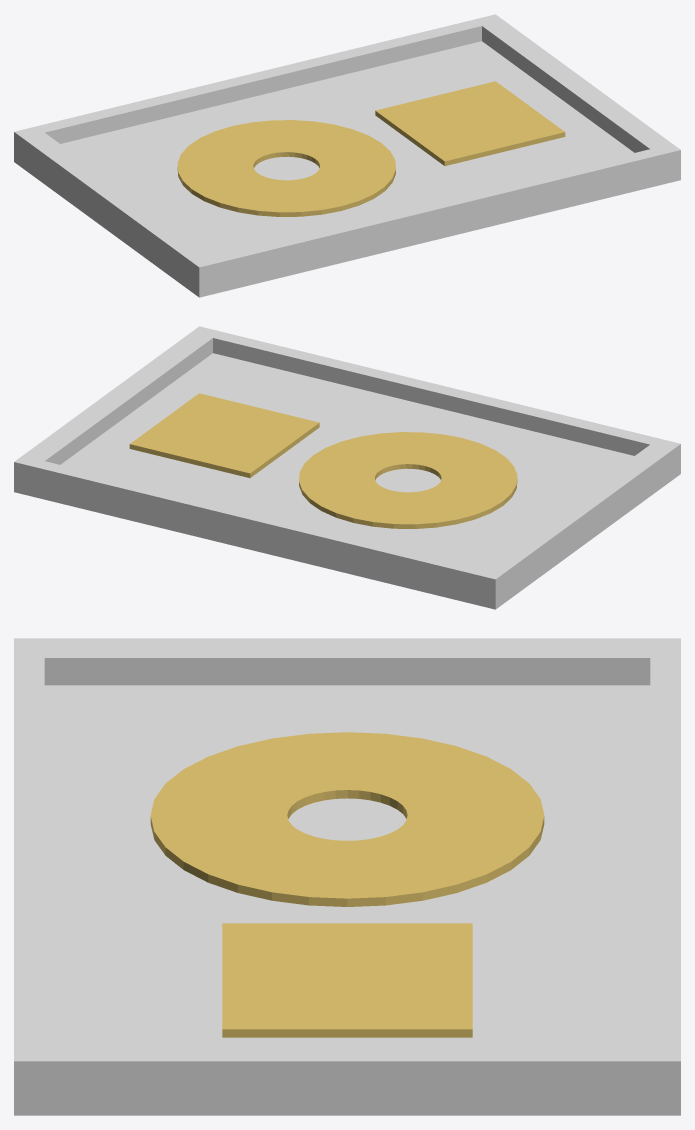
File: GoldRecord.fbx
The picture shows the model from 3 angles, top to bottom: view 1: azimuth 30°, elevation 25°; view 2: azimuth 150°, elevation 25°; view 3: azimuth 270°, elevation 25°; orthographic projection. The views are drawn at different scales.
Visible parts, largest first — view 1: Frame, Record, Plaque; view 2: Frame, Record, Plaque; view 3: Frame, Record, Plaque.
Part boxes in pixels (bbox=[...]): Frame: bbox=[14, 14, 680, 297]; Record: bbox=[177, 120, 395, 216]; Plaque: bbox=[375, 81, 565, 165]; Frame: bbox=[14, 326, 680, 609]; Record: bbox=[299, 432, 517, 528]; Plaque: bbox=[129, 393, 319, 477]; Frame: bbox=[14, 638, 680, 1115]; Record: bbox=[150, 732, 544, 906]; Plaque: bbox=[222, 923, 472, 1037].
Size of the model in its own units: 45.72 by 2.74 by 30.48.
